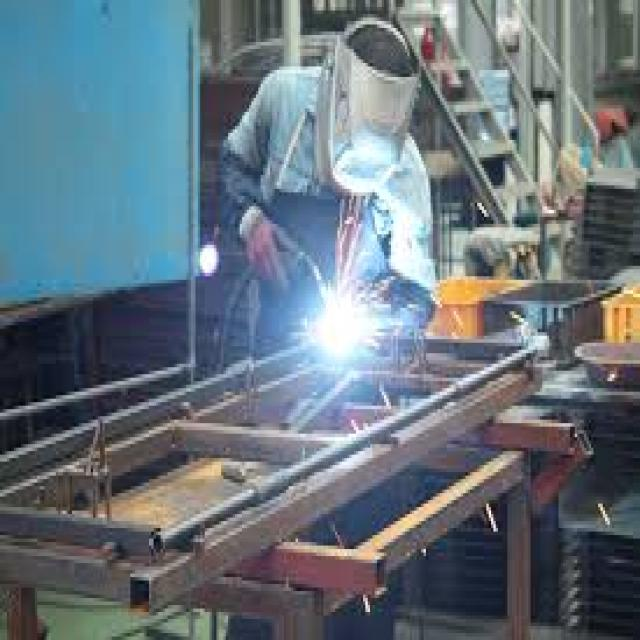welding: (319, 294, 372, 354)
